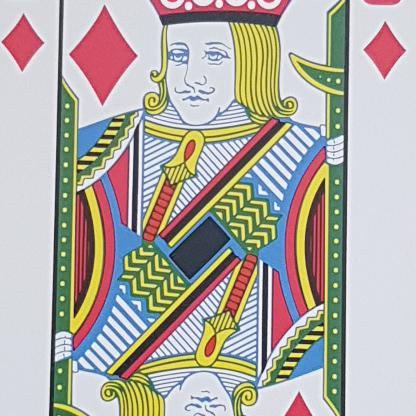Jd: (354, 0, 415, 88), (0, 0, 58, 77)
